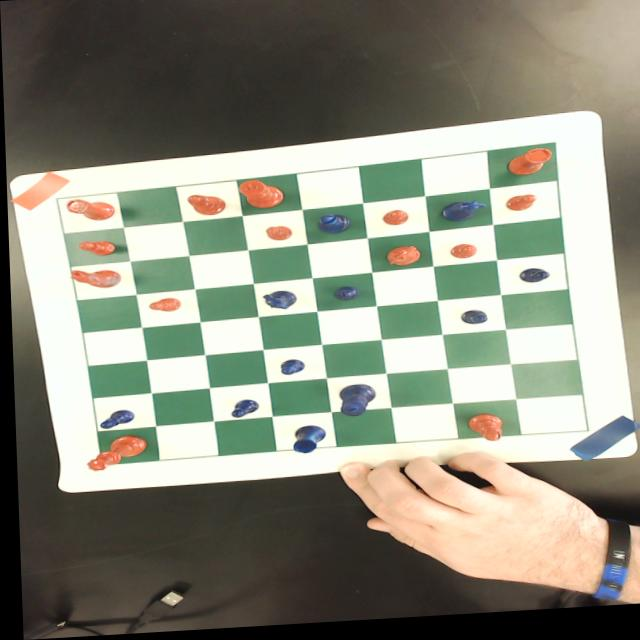B: (314, 217, 351, 237)
K: (335, 386, 375, 420)
N: (439, 203, 488, 227), (260, 292, 297, 314)
P: (96, 409, 131, 430), (225, 401, 256, 420), (516, 273, 548, 289), (456, 314, 487, 330), (276, 361, 302, 378), (331, 289, 358, 304)
R: (289, 428, 324, 457)
b: (463, 418, 504, 448), (184, 194, 225, 218)
cb: (55, 148, 584, 465)
k: (237, 181, 283, 212)
n: (65, 265, 120, 291), (382, 248, 420, 271)
p: (76, 239, 117, 257), (145, 297, 180, 315), (503, 199, 535, 217), (262, 227, 292, 245), (379, 212, 407, 230), (447, 248, 475, 264)
q: (81, 434, 144, 472)
r: (503, 152, 553, 183), (63, 197, 114, 223)
